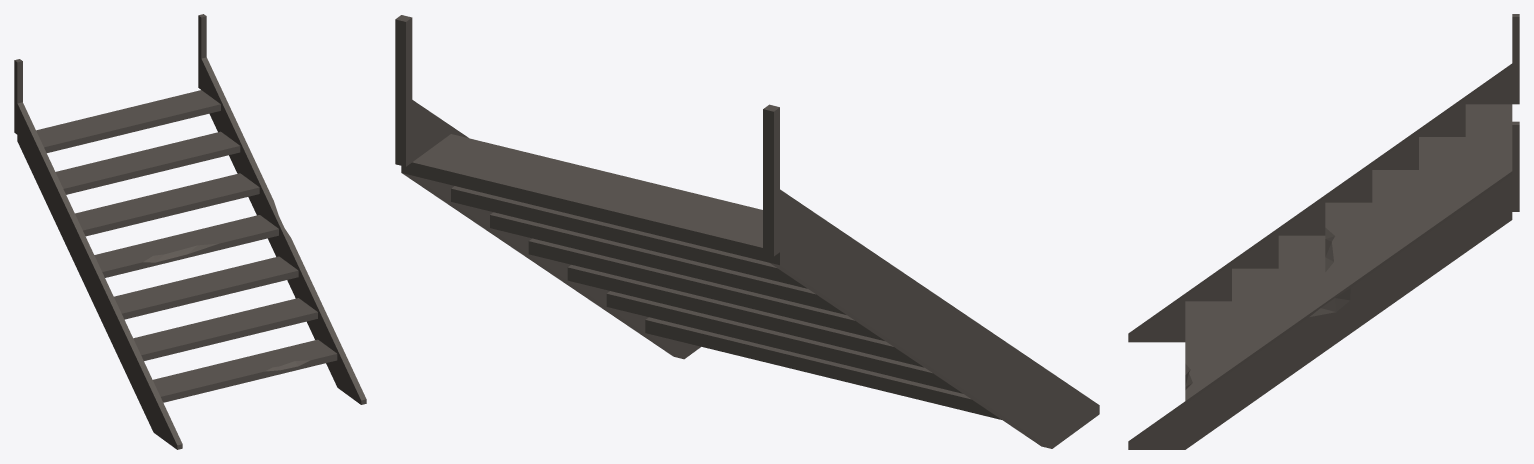
The model's file is Wh_Safety_Rail_Stairs.fbx.
The picture shows the model from 3 angles, left to right: view 1: azimuth 30°, elevation 25°; view 2: azimuth 150°, elevation 25°; view 3: azimuth 270°, elevation 25°; orthographic projection. The views are drawn at different scales.
Visible parts, largest first — view 1: Cube.1076; view 2: Cube.1076; view 3: Cube.1076.
Part boxes in pixels (x1,y1,x2,y2): Cube.1076: [14, 14, 366, 449]; Cube.1076: [395, 15, 1099, 448]; Cube.1076: [1128, 14, 1519, 449].
Size of the model in its own units: 300 by 410 by 447.
